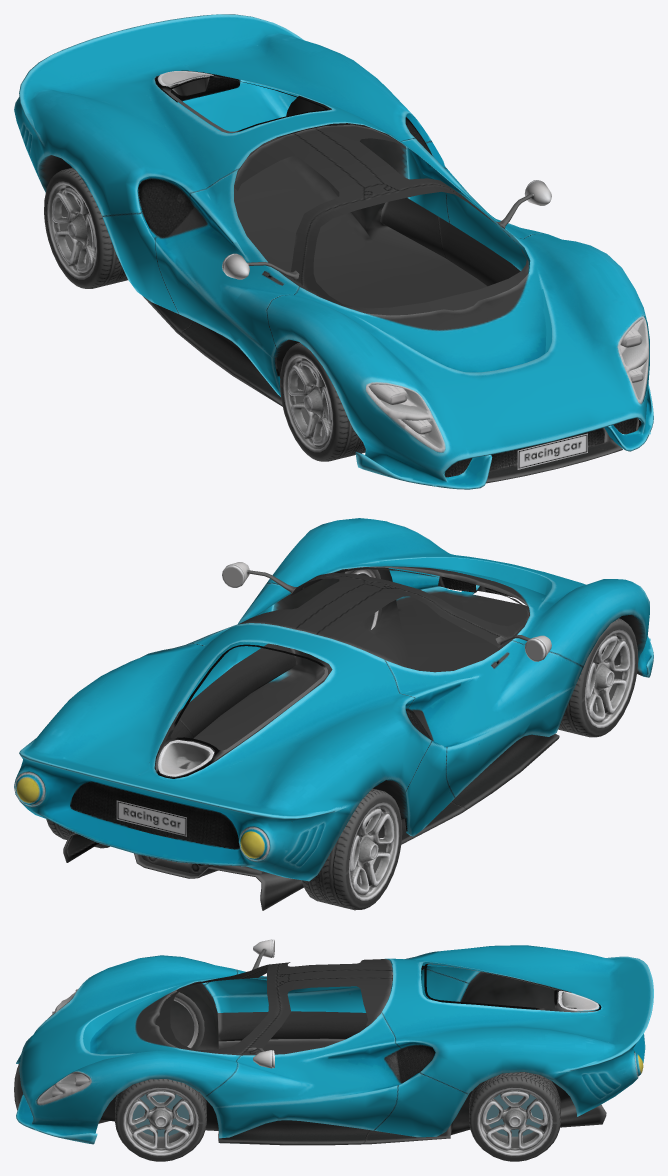
File: De Tomaso P72_blue.fbx
3 renders of one model, top to bottom at view 1: azimuth 30°, elevation 25°; view 2: azimuth 150°, elevation 25°; view 3: azimuth 270°, elevation 25°, orthographic. The views are drawn at different scales.
Visible parts, largest first — view 1: Body, Wheel_BR, Wheel_FR; view 2: Body, Wheel_BR, Wheel_FR; view 3: Body, Wheel_BL, Wheel_FL, Wheel_FR.
Part boxes in pixels (box(x1,y1,x2,y2)): Body: box(14, 14, 653, 489); Wheel_BR: box(44, 167, 127, 288); Wheel_FR: box(280, 342, 365, 461); Body: box(14, 518, 653, 910); Wheel_BR: box(301, 788, 402, 910); Wheel_FR: box(558, 618, 638, 737); Body: box(14, 939, 653, 1145); Wheel_BL: box(469, 1072, 560, 1161); Wheel_FL: box(115, 1079, 206, 1161); Wheel_FR: box(167, 991, 204, 1049).
Size of the model in its own units: 7.11 by 3.79 by 16.24.
